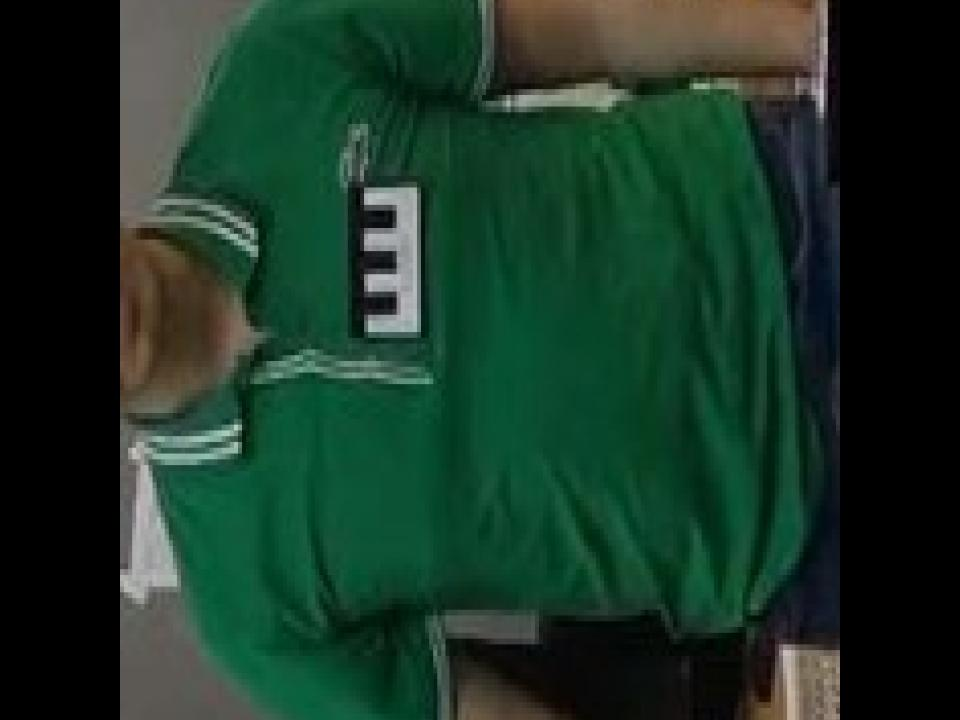name-tag: (352, 179, 426, 339)
